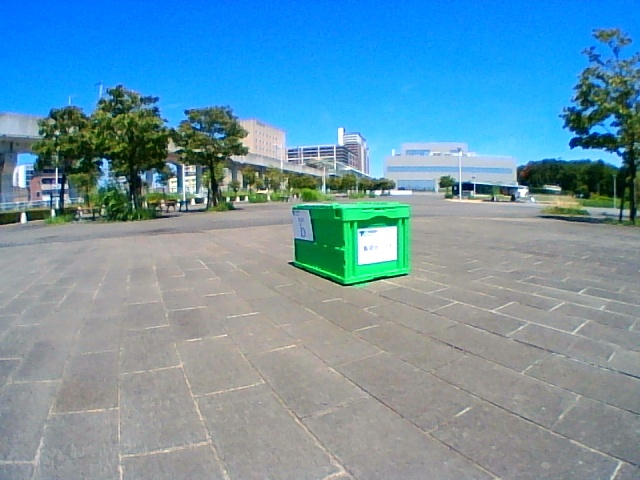green_box: (292, 204, 409, 286)
tag_b: (293, 210, 310, 238)
